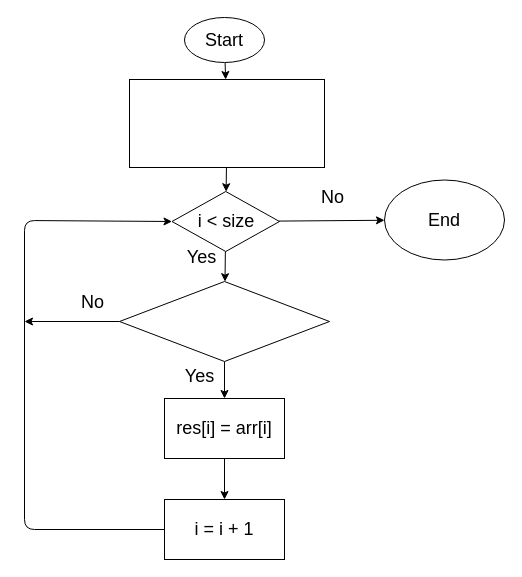
Image size: 522x577. Some labels were removed from this diagram. Each missing label, with the centre of its shape:
"arr = new array() i = 0 size = length(arr) res =new array(size)" goes at point (226, 123).
"lenght.arr[i] <= 3" goes at point (224, 321).
